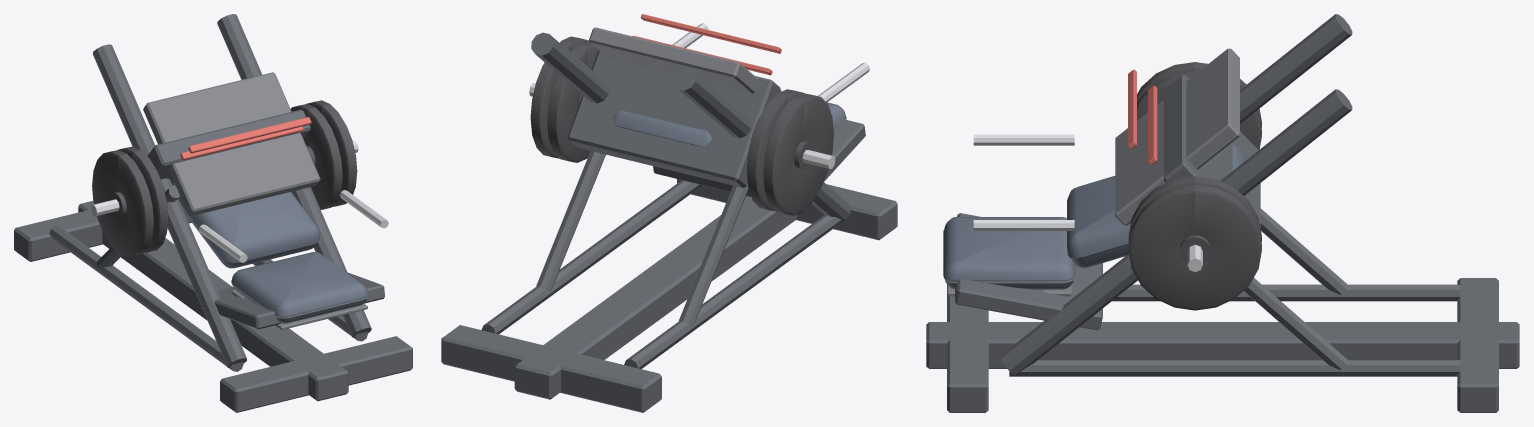
File: legpress.glb
The picture shows the model from 3 angles, left to right: view 1: azimuth 30°, elevation 25°; view 2: azimuth 150°, elevation 25°; view 3: azimuth 270°, elevation 25°; orthographic projection. The views are drawn at different scales.
Parts seen in each view (by area): view 1: leg-press-machine; view 2: leg-press-machine; view 3: leg-press-machine.
Part boxes in pixels (x1,y1,x2,y2): leg-press-machine: (14, 14, 412, 412); leg-press-machine: (441, 14, 897, 412); leg-press-machine: (926, 14, 1519, 412).
Bounding box in the file's own units: 1.26 × 1.14 × 2.
